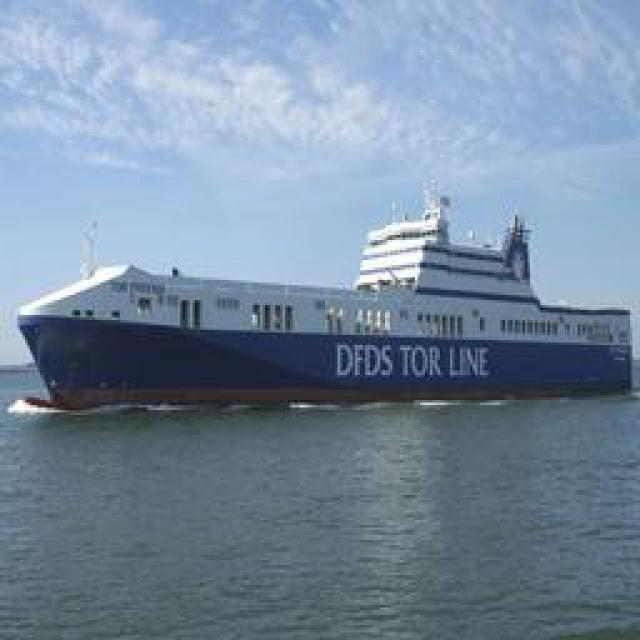Ship: (12, 195, 632, 413)
